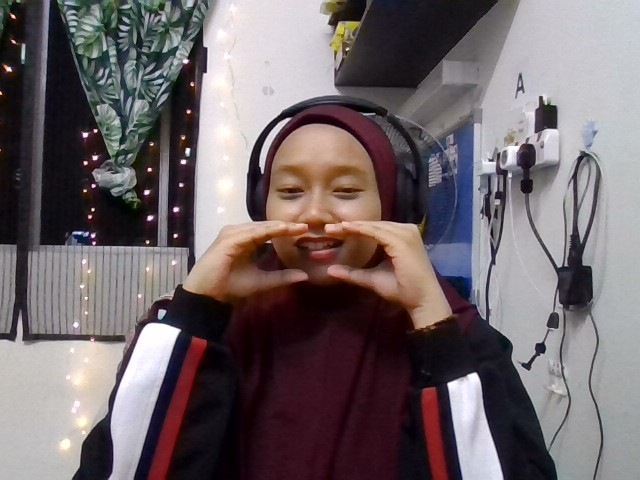Burger: (186, 220, 447, 302)
